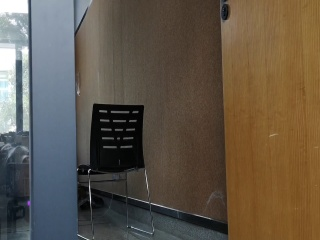room: (2, 3, 318, 240)
